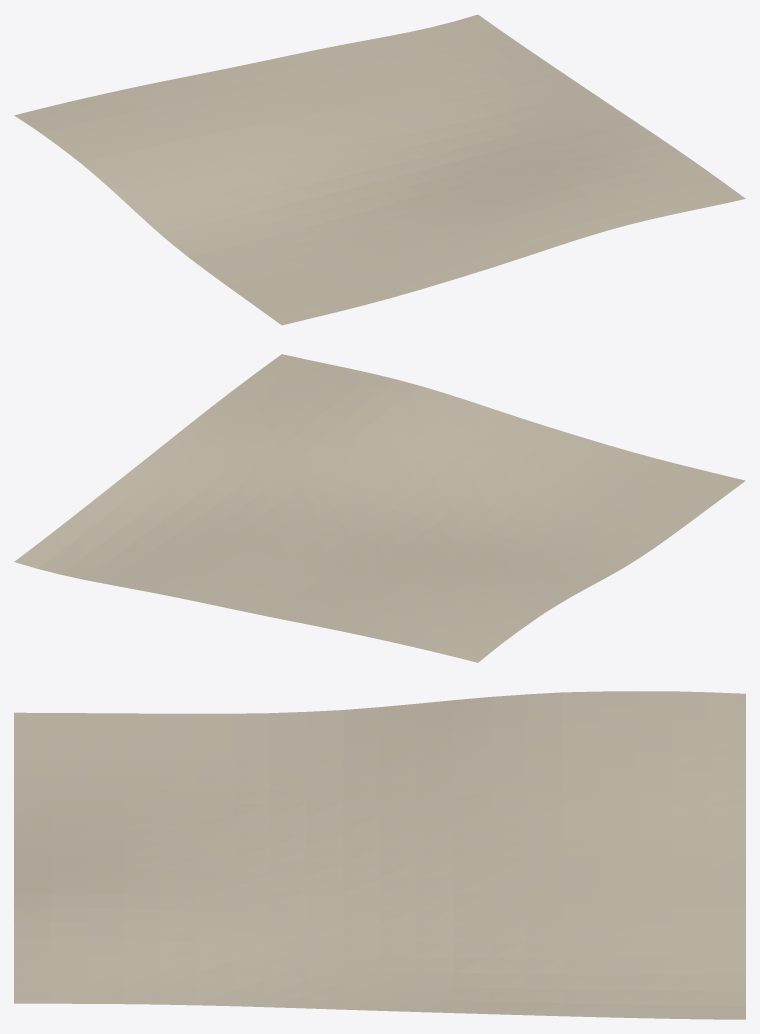
File: bolak_-39_-12.glb
3 views of the same model, one above another, from view 1: azimuth 30°, elevation 25°; view 2: azimuth 150°, elevation 25°; view 3: azimuth 270°, elevation 25° (orthographic). The views are drawn at different scales.
Parts seen in each view (by area): view 1: Yer_Tuproq-col; view 2: Yer_Tuproq-col; view 3: Yer_Tuproq-col.
Boxes of the visible parts, x1=… form: Yer_Tuproq-col: x1=14, y1=14, x2=745, y2=325; Yer_Tuproq-col: x1=14, y1=354, x2=745, y2=662; Yer_Tuproq-col: x1=14, y1=691, x2=745, y2=1019.
Bounding box in the file's own units: 400 × 14.22 × 400.
